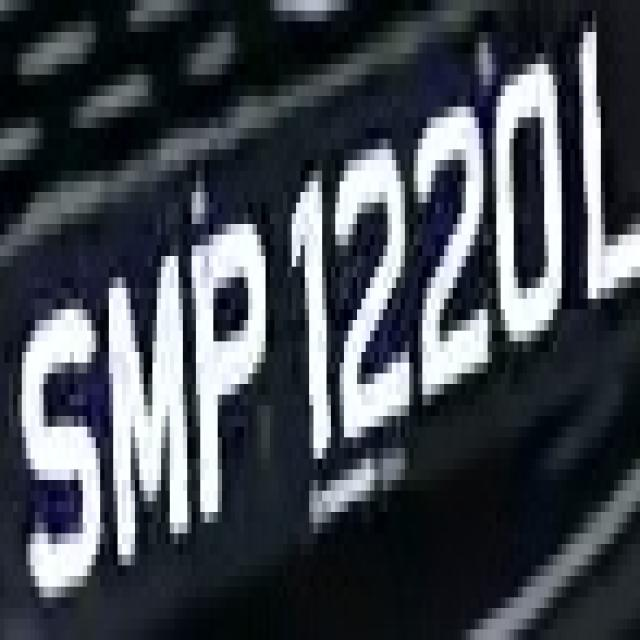0: (488, 42, 562, 362)
1: (287, 117, 344, 523)
2: (327, 149, 422, 448), (405, 74, 483, 427)
L: (4, 0, 4, 6)
M: (96, 224, 192, 576)
P: (187, 170, 270, 554)
S: (22, 277, 100, 619)
